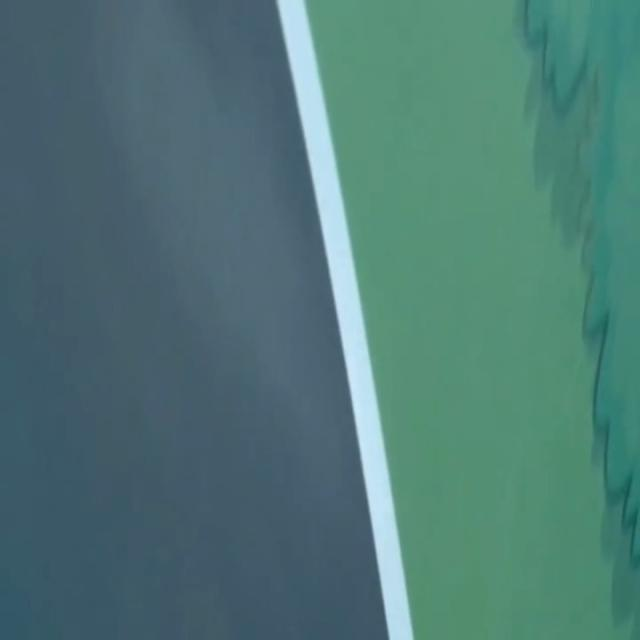right: (276, 0, 413, 639)
